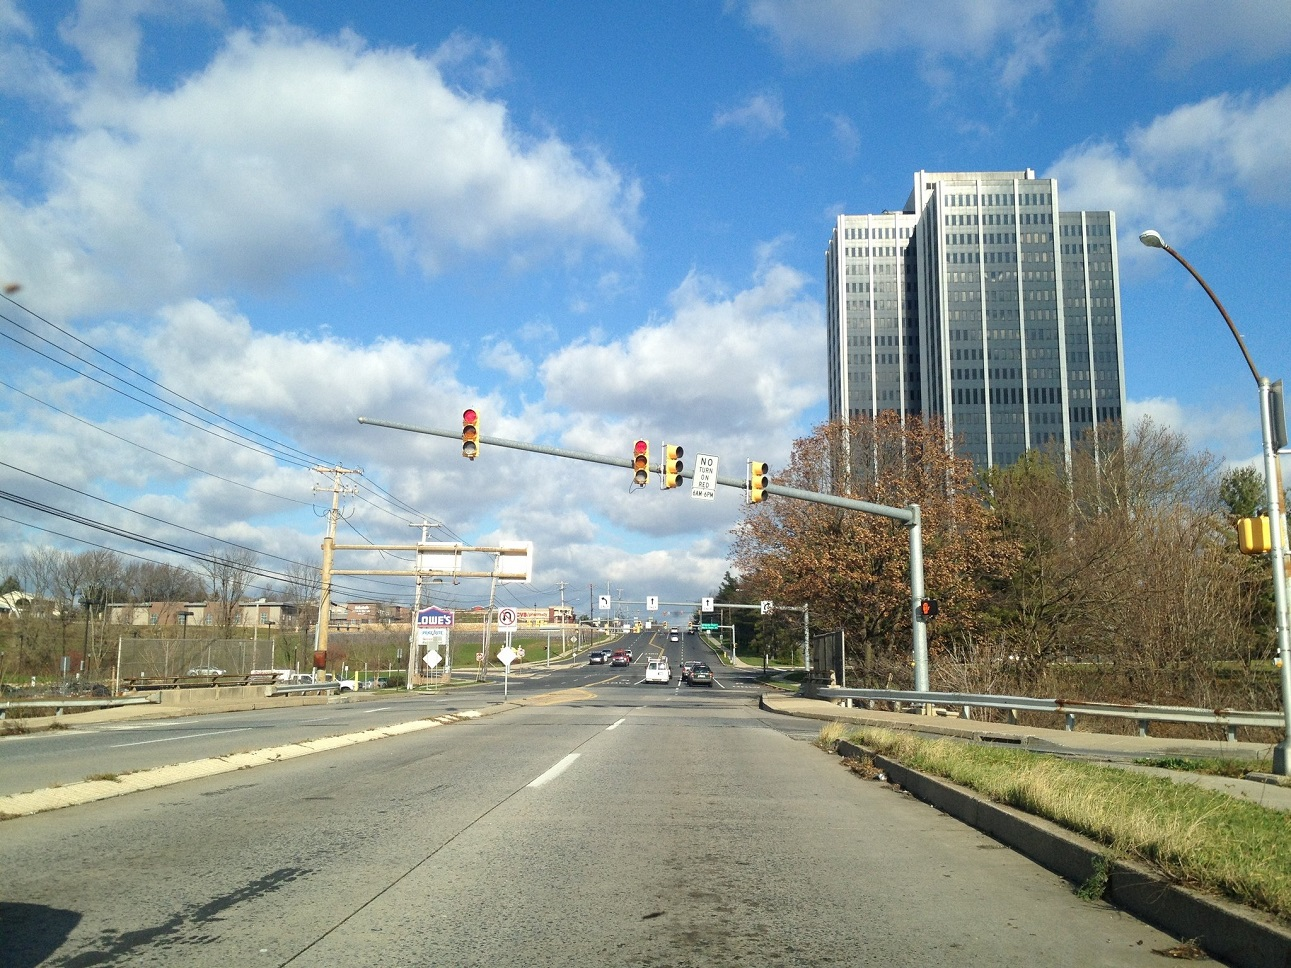traffic_light: (460, 406, 481, 459), (631, 437, 651, 486)
